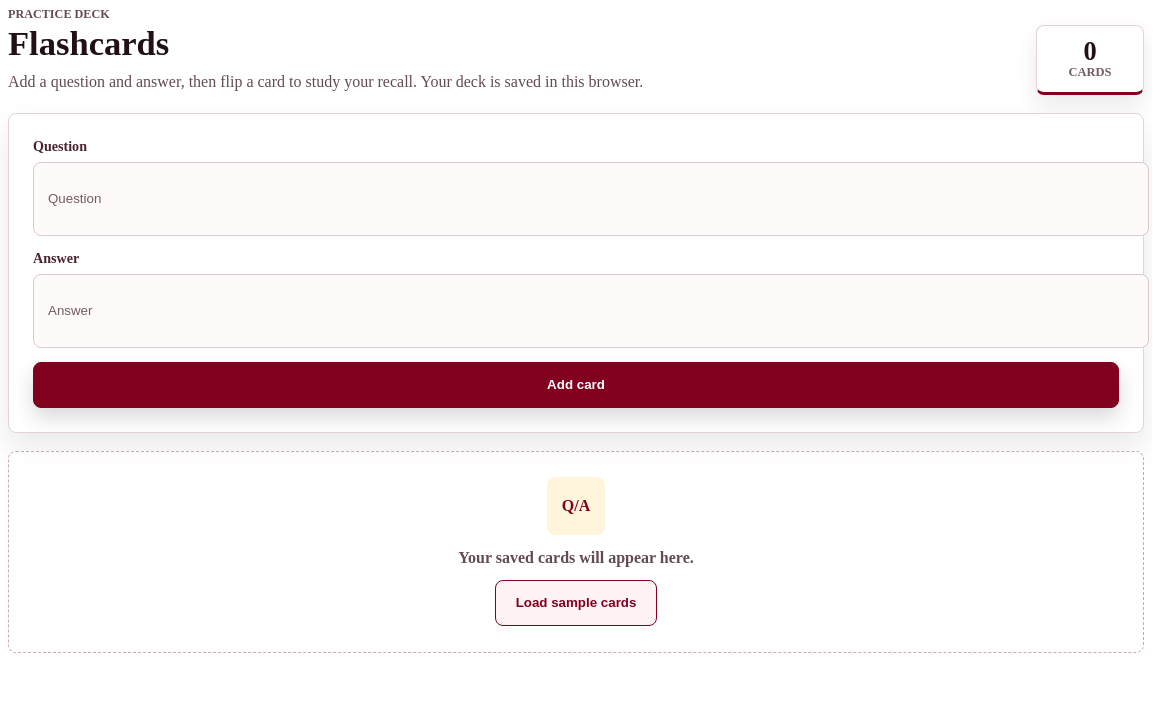
Test: flashcard deck › keeps the answer out of the page until the card is flipped
Clear the field with placeholder "Question" at (591,199), box [33,162,1149,236]
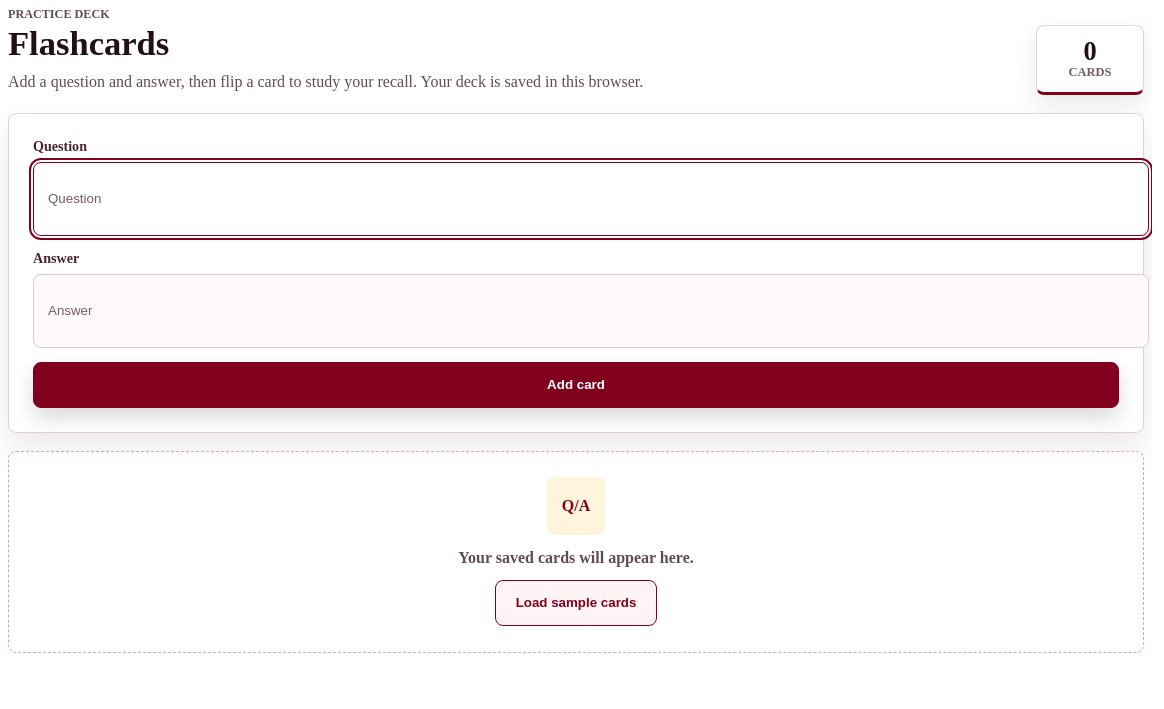
Clear the field with placeholder "Answer" at (591,311), box [33,274,1149,348]
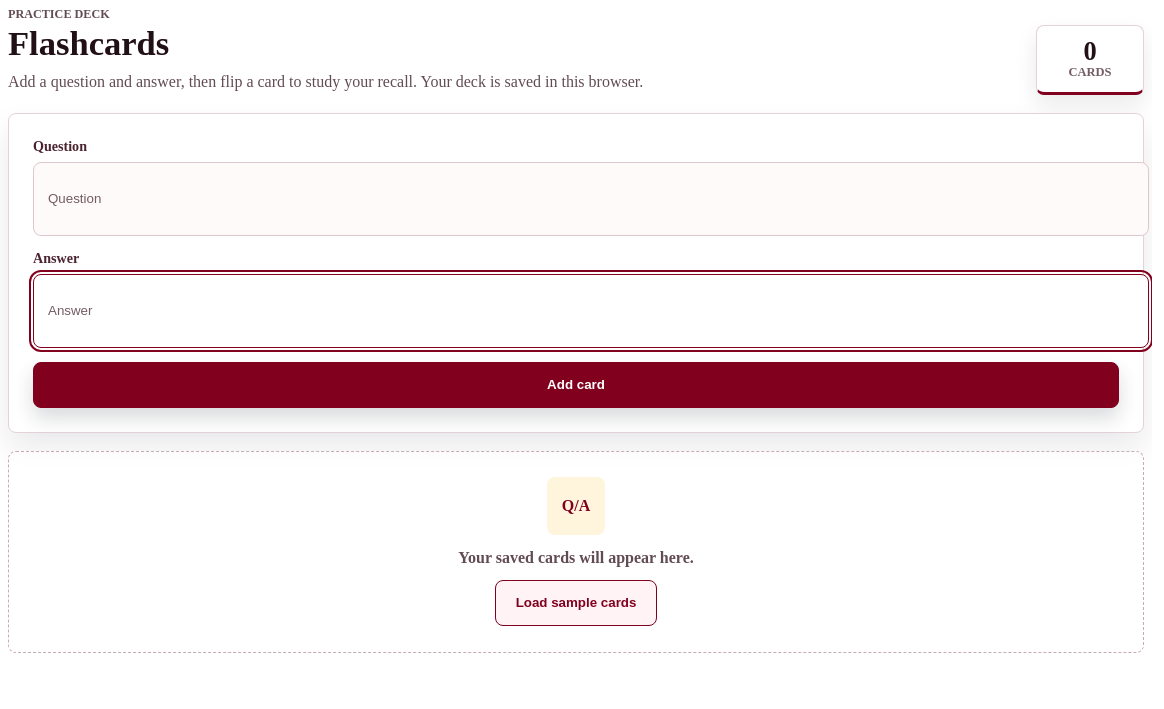
Type "Hidden?" into the field with placeholder "Question" at (591,199), box [33,162,1149,236]
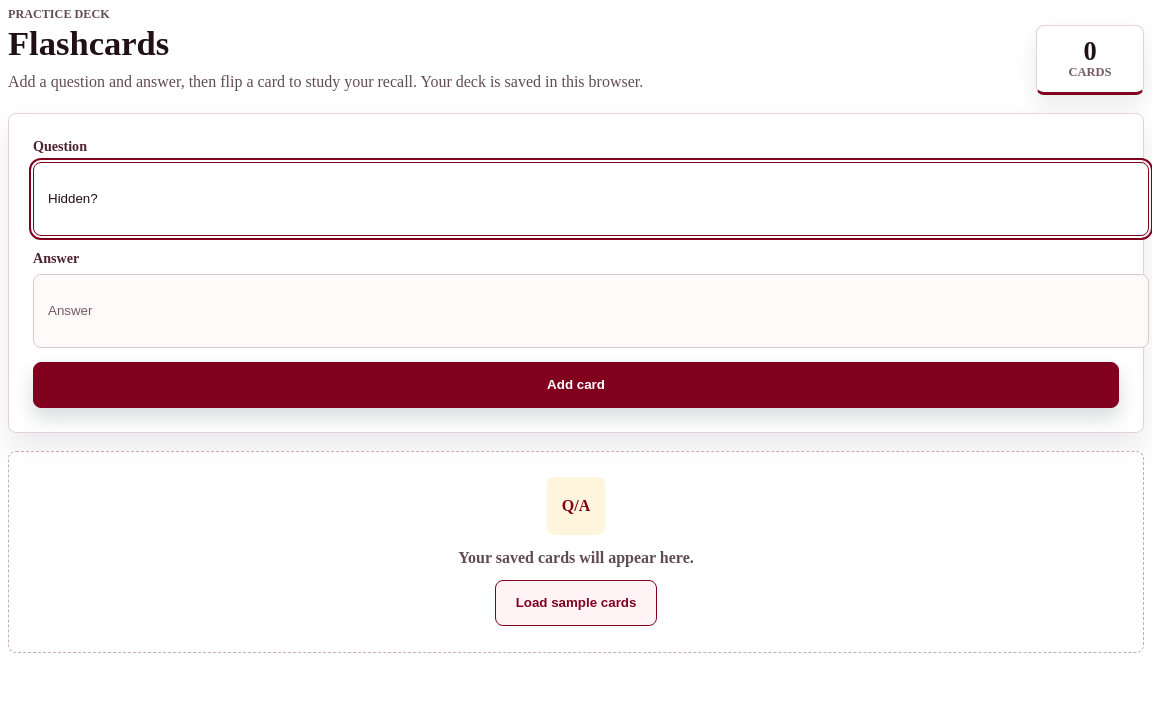
Type "Revealed answer" into the field with placeholder "Answer" at (591,311), box [33,274,1149,348]
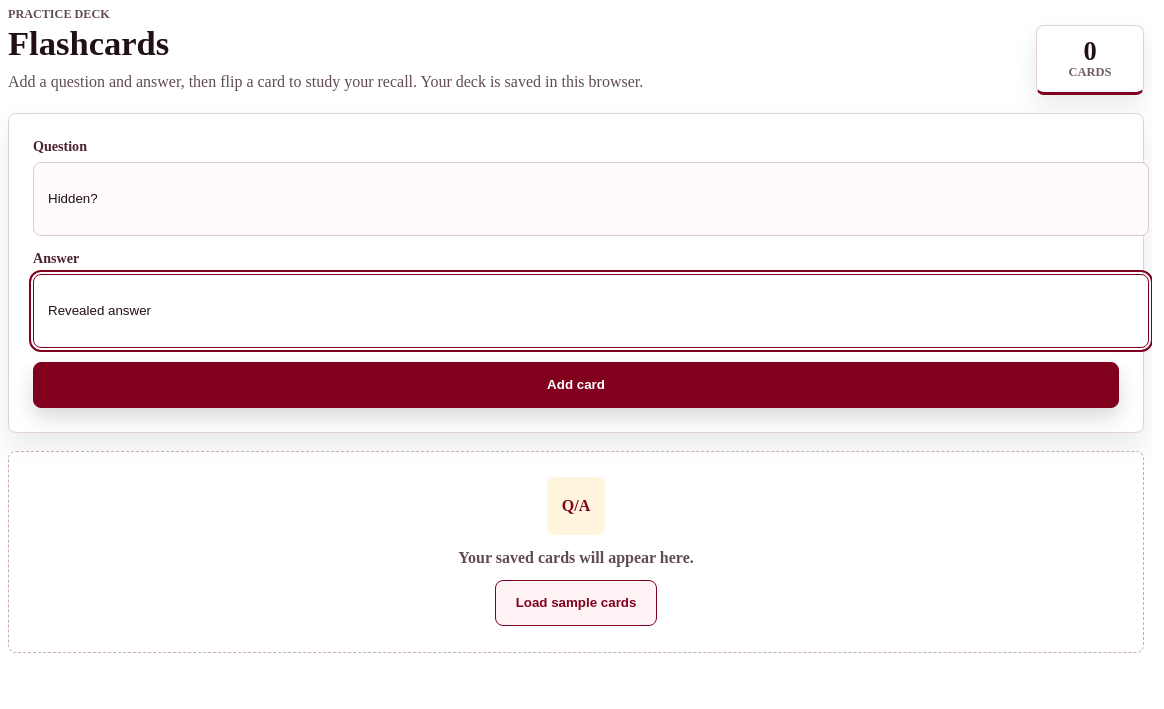
Click the button "Add card" at (576,385), box [33,362,1119,408]
(page scrolled)
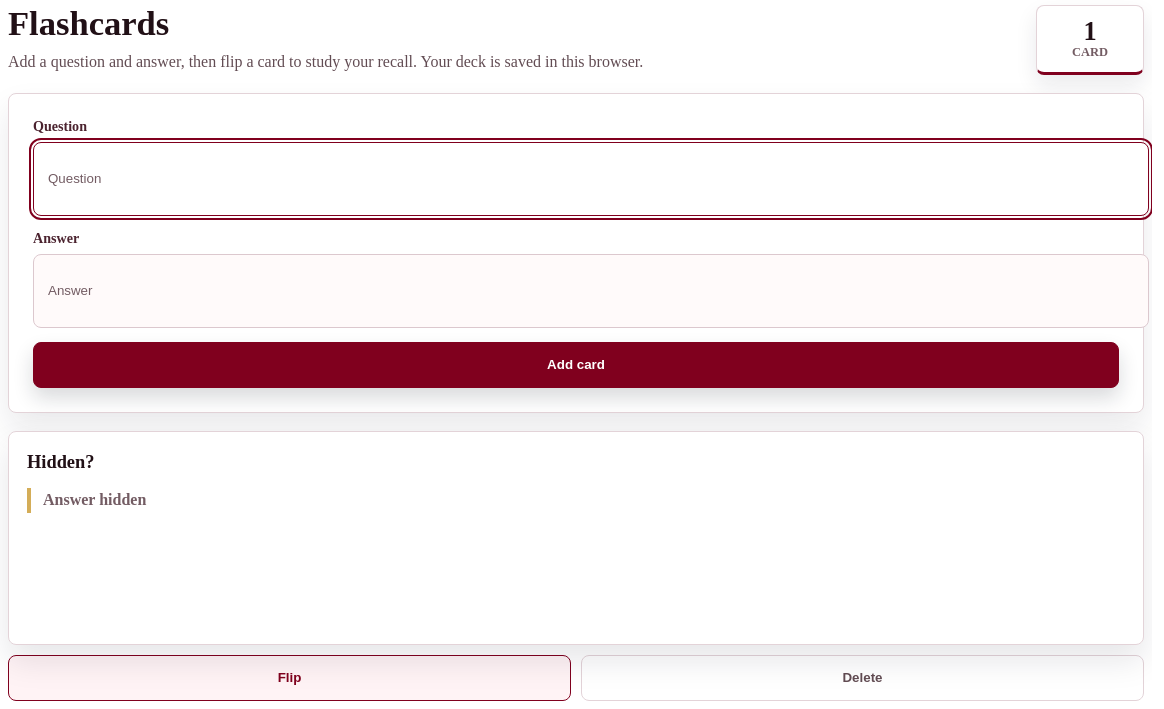
Expected: the text "Revealed answer" is not shown
Click the button "Flip" at (290,678), box [8,655,571,701]
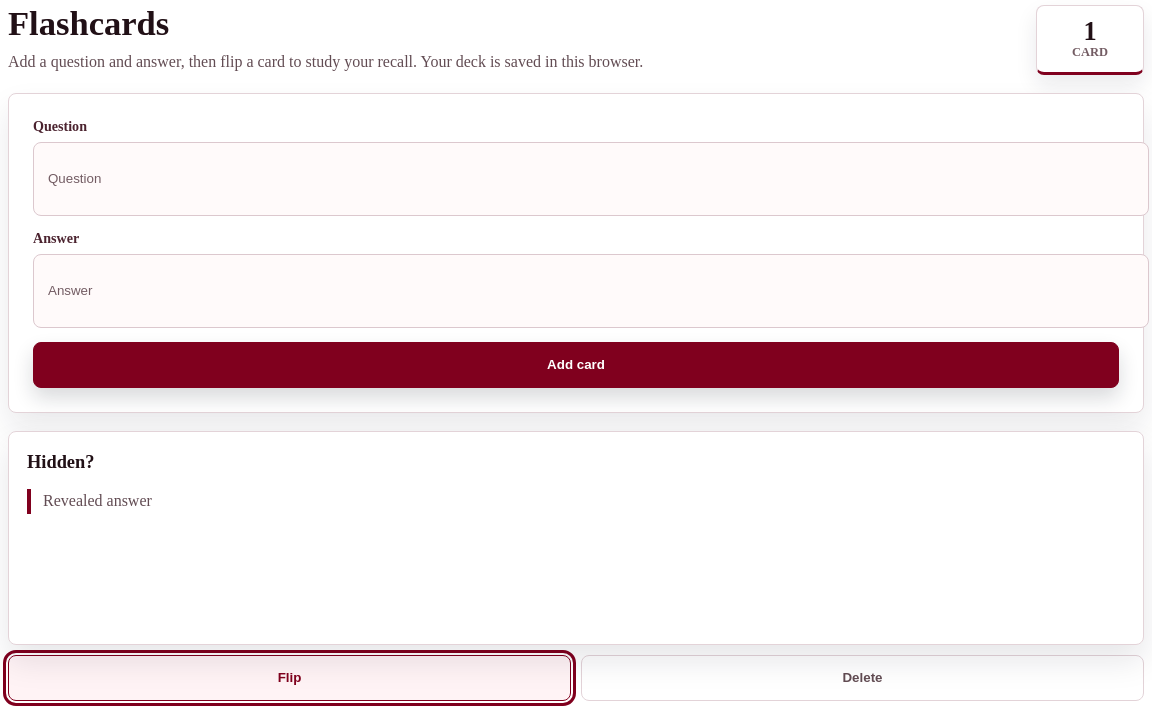
Expected: the text "Revealed answer" is shown, [27,488,1125,513]
